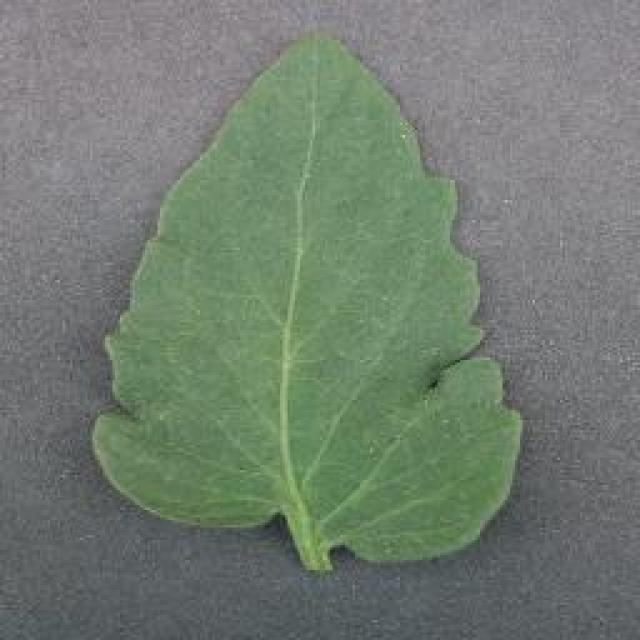healthy: (93, 25, 525, 569)
